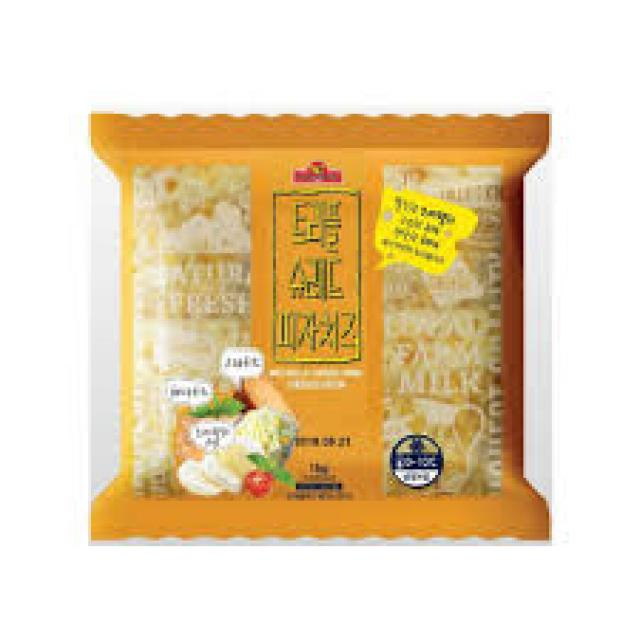cheese: (91, 114, 546, 535)
